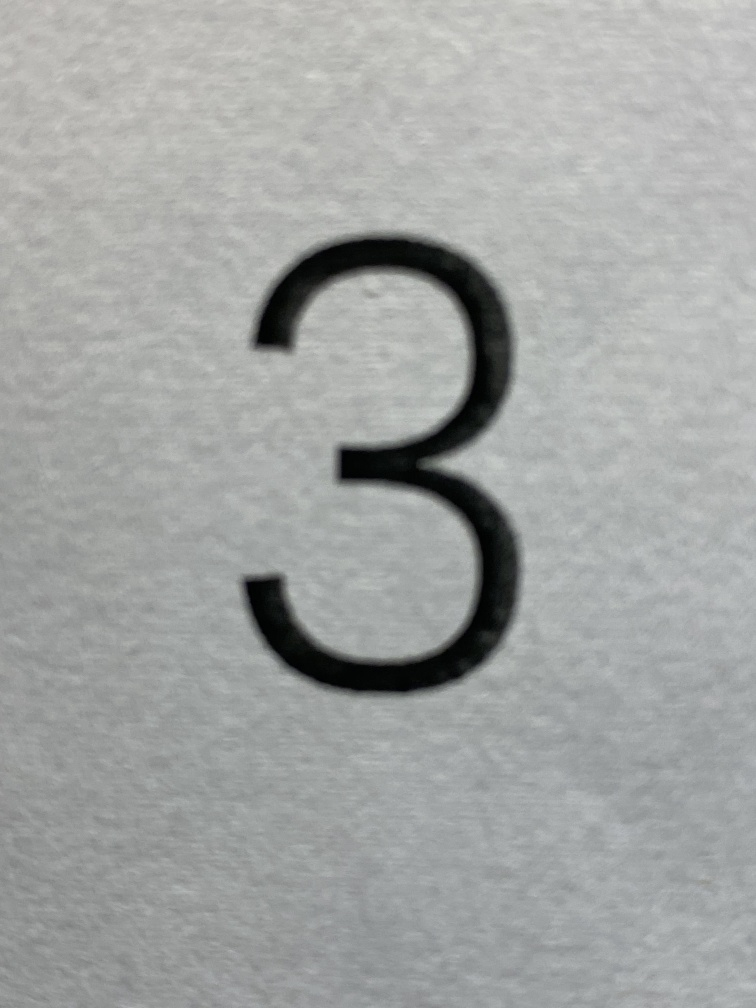three: (161, 198, 582, 753)
